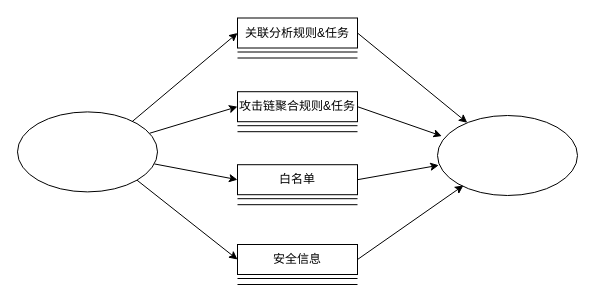
This 595x303 diagram has some shape labels left out. The centre of each missing label's shape, as x and y in pixels:
"检测分析中心" belongs at pixel 87 151.
"追踪溯源中心" belongs at pixel 507 155.
